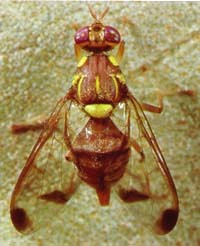Fruit fly: (14, 14, 191, 233)
